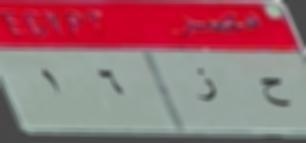1: (33, 68, 65, 100)
6: (96, 62, 130, 105)
7aa: (253, 71, 290, 112)
zay: (193, 65, 219, 105)
